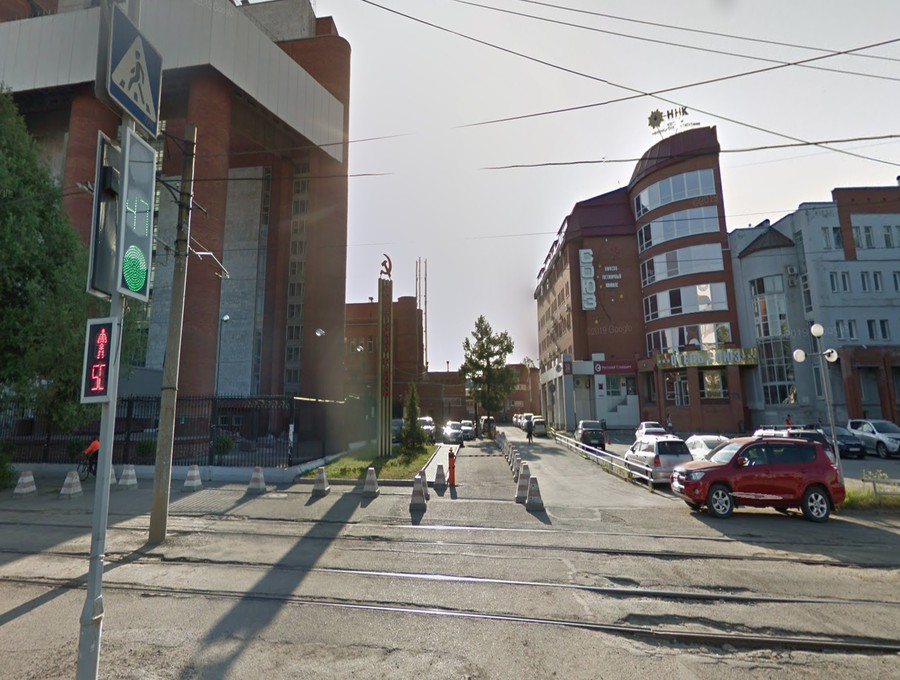Traffic Light-red: (84, 316, 114, 403)
